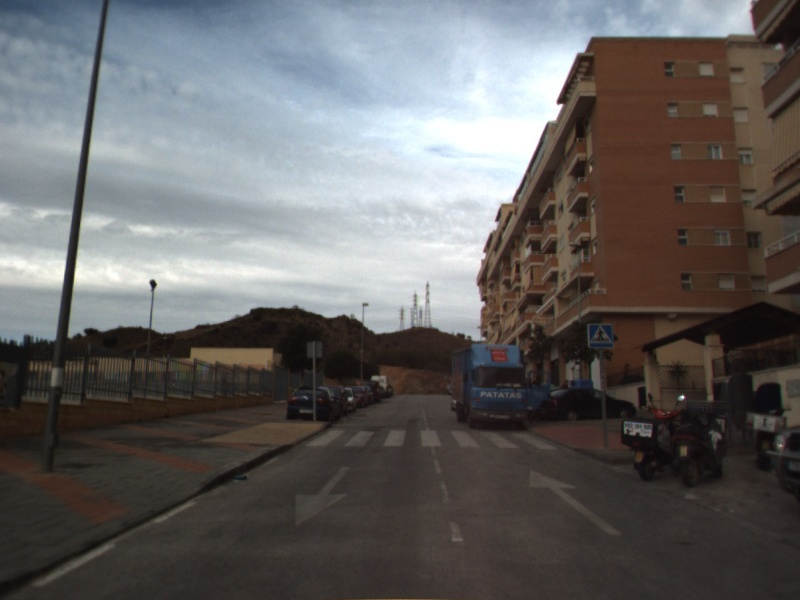STRAIGHT: (527, 468, 623, 537)
